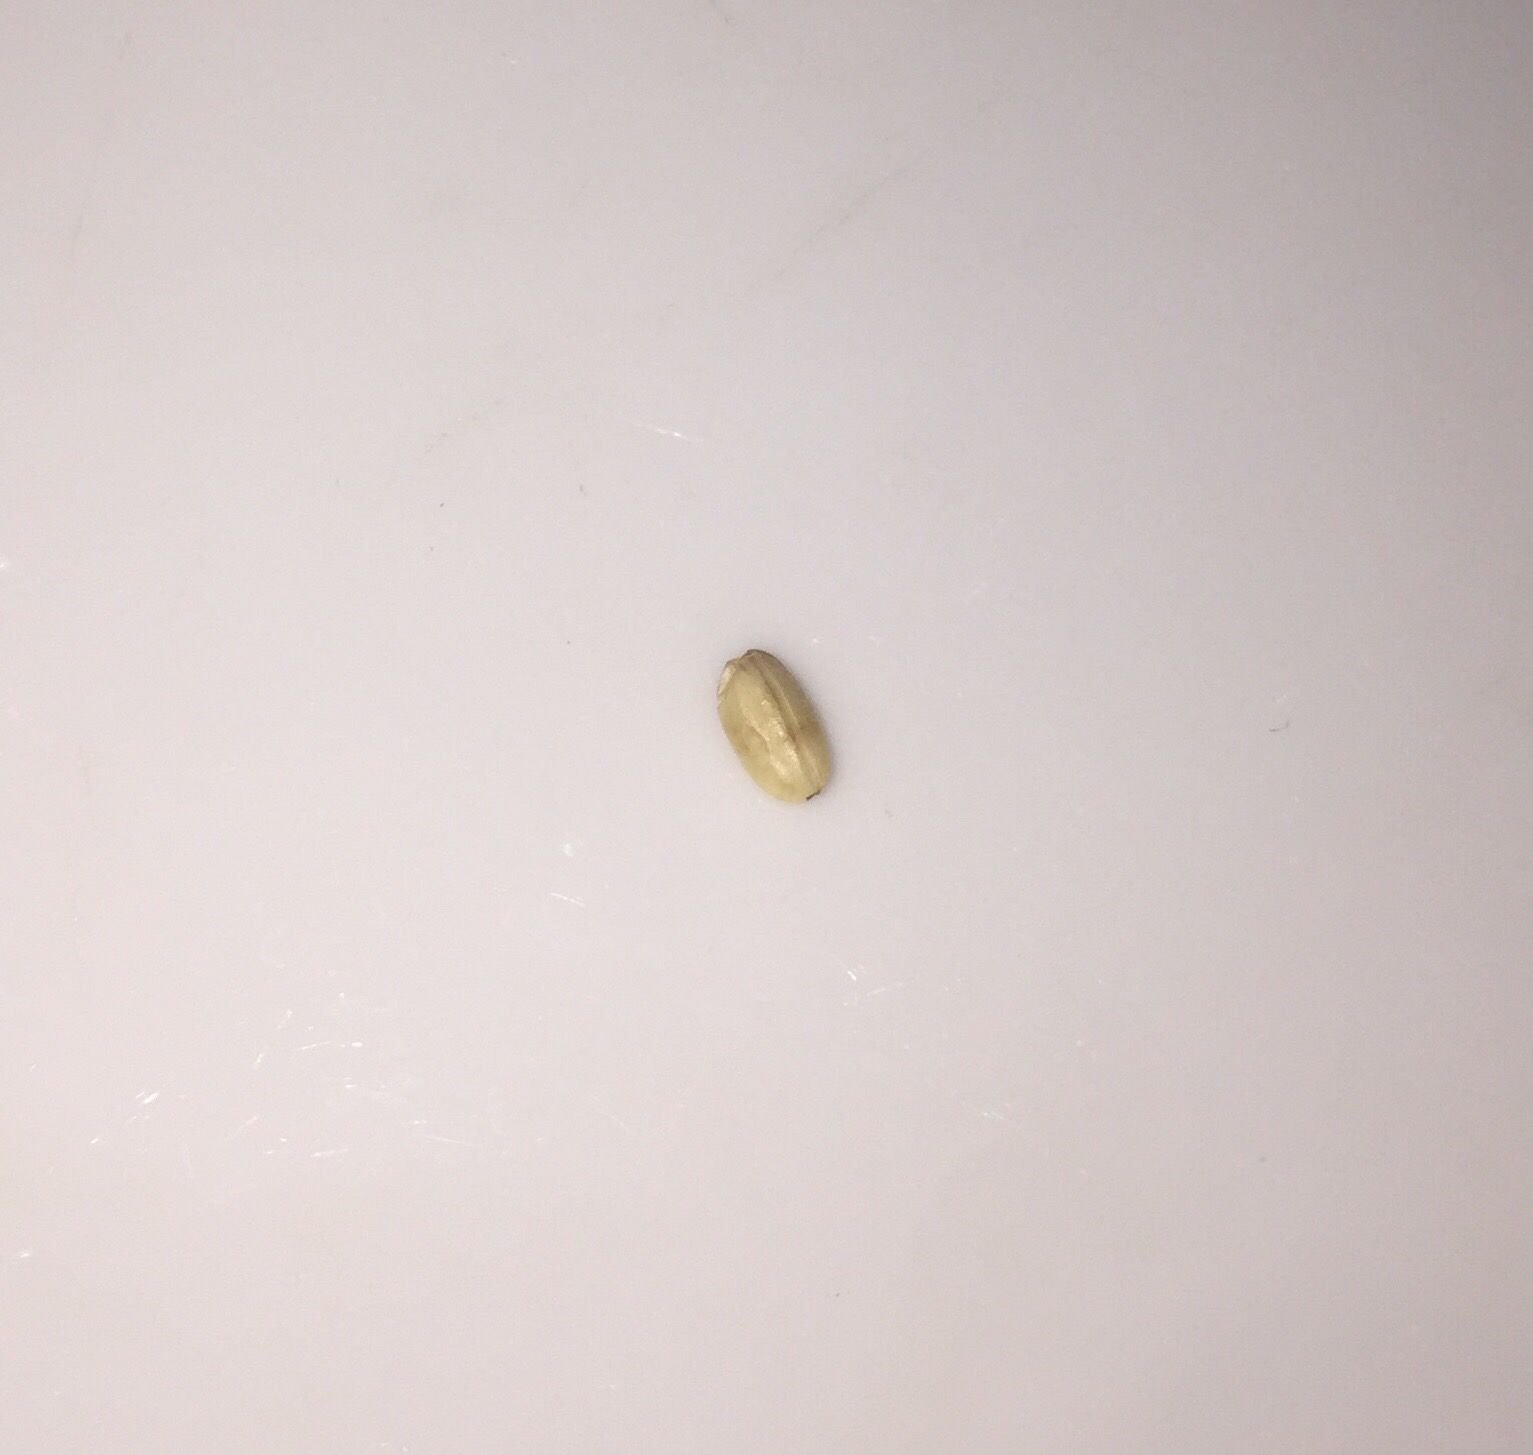Gao Lut Bac: (688, 636, 874, 840)
